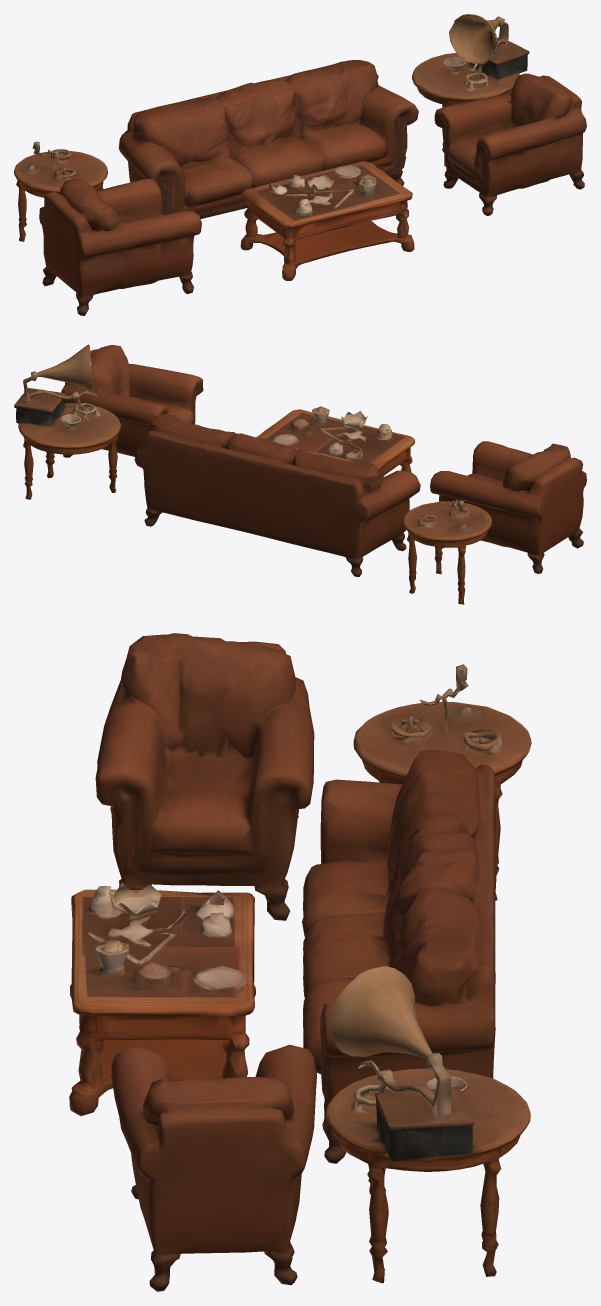
The model's file is deri-takim.glb.
The picture shows the model from 3 angles, top to bottom: view 1: azimuth 30°, elevation 25°; view 2: azimuth 150°, elevation 25°; view 3: azimuth 270°, elevation 25°; orthographic projection. The views are drawn at different scales.
Parts seen in each view (by area): view 1: tripo_node_a17343ff-6c41-48fb-993e-ab8c9047725b; view 2: tripo_node_a17343ff-6c41-48fb-993e-ab8c9047725b; view 3: tripo_node_a17343ff-6c41-48fb-993e-ab8c9047725b.
Part boxes in pixels (<box>): tripo_node_a17343ff-6c41-48fb-993e-ab8c9047725b: <box>14,14,586,315</box>; tripo_node_a17343ff-6c41-48fb-993e-ab8c9047725b: <box>14,344,586,604</box>; tripo_node_a17343ff-6c41-48fb-993e-ab8c9047725b: <box>69,633,531,1291</box>.
Size of the model in its own units: 1 by 0.2697 by 0.4059.
Materials: 1 (1 with a texture image).
